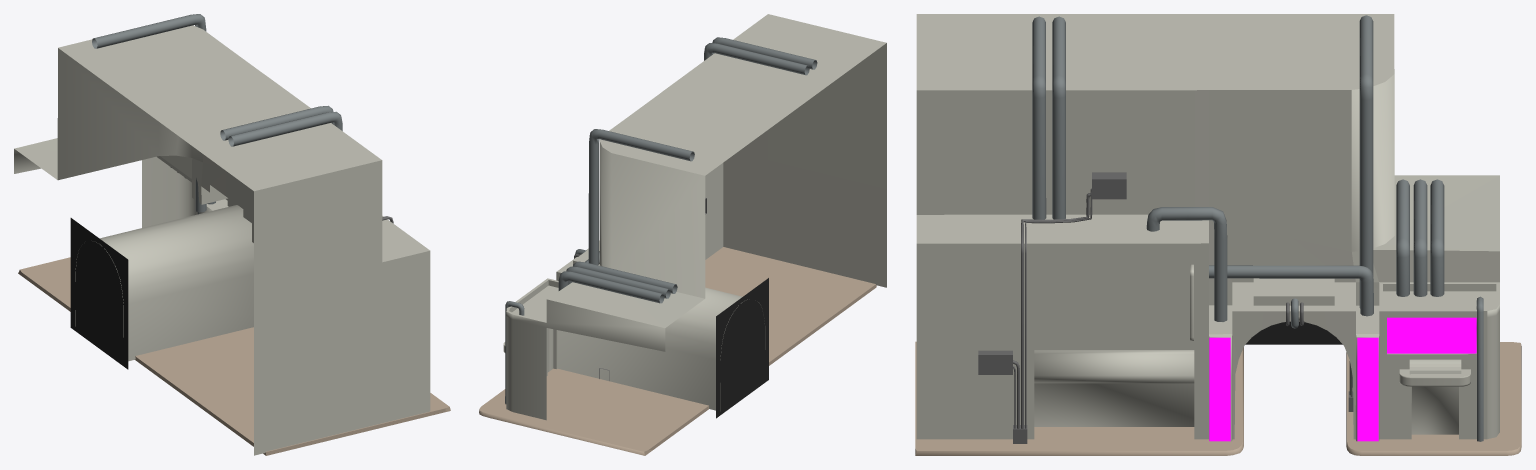
The model's file is tunnelbuilding.fbx.
The picture shows the model from 3 angles, left to right: view 1: azimuth 30°, elevation 25°; view 2: azimuth 150°, elevation 25°; view 3: azimuth 270°, elevation 25°; orthographic projection. The views are drawn at different scales.
Parts seen in each view (by area): view 1: Cube.003, Cube, Plane.001, Cube.001, NurbsCurve.011, NurbsCurve.009, NurbsCurve.008; view 2: Cube.003, Cube.001, Cube, Plane.001, NurbsCurve.011, NurbsCurve.002, NurbsCurve.008, NurbsCurve.009, NurbsCurve, NurbsCurve.001; view 3: Cube.003, Cube, Cube.001, NurbsCurve.011, Plane.007, NurbsCurve.009, NurbsCurve.008, NurbsCurve.003, NurbsCurve.004, Plane.005, Plane.006, NurbsCurve.002 (+8 smaller).
Boxes of the visible parts, x1=… form: Cube.003: x1=14, y1=25, x2=430, y2=455; Cube: x1=135, y1=327, x2=450, y2=455; Plane.001: x1=70, y1=218, x2=128, y2=369; Cube.001: x1=18, y1=257, x2=70, y2=311; NurbsCurve.011: x1=92, y1=14, x2=206, y2=212; NurbsCurve.009: x1=228, y1=111, x2=342, y2=146; NurbsCurve.008: x1=220, y1=105, x2=333, y2=140; Cube.003: x1=503, y1=14, x2=886, y2=420; Cube.001: x1=479, y1=368, x2=708, y2=455; Cube: x1=705, y1=247, x2=876, y2=365; Plane.001: x1=716, y1=278, x2=768, y2=418; NurbsCurve.011: x1=588, y1=129, x2=694, y2=265; NurbsCurve.002: x1=558, y1=271, x2=664, y2=303; NurbsCurve.008: x1=704, y1=43, x2=809, y2=75; NurbsCurve.009: x1=712, y1=37, x2=817, y2=69; NurbsCurve: x1=573, y1=261, x2=677, y2=293; NurbsCurve.001: x1=566, y1=266, x2=670, y2=298; Cube.003: x1=916, y1=14, x2=1499, y2=441; Cube: x1=915, y1=341, x2=1243, y2=455; Cube.001: x1=1346, y1=342, x2=1521, y2=455; NurbsCurve.011: x1=1359, y1=15, x2=1373, y2=307; Plane.007: x1=1387, y1=317, x2=1476, y2=353; NurbsCurve.009: x1=1032, y1=16, x2=1046, y2=219; NurbsCurve.008: x1=1052, y1=16, x2=1065, y2=219; NurbsCurve.003: x1=1209, y1=265, x2=1373, y2=316; NurbsCurve.004: x1=1146, y1=207, x2=1227, y2=321; Plane.005: x1=1357, y1=337, x2=1378, y2=441; Plane.006: x1=1209, y1=337, x2=1230, y2=441; NurbsCurve.002: x1=1430, y1=179, x2=1444, y2=296.
Size of the model in its own units: 800 by 1099 by 1754.
